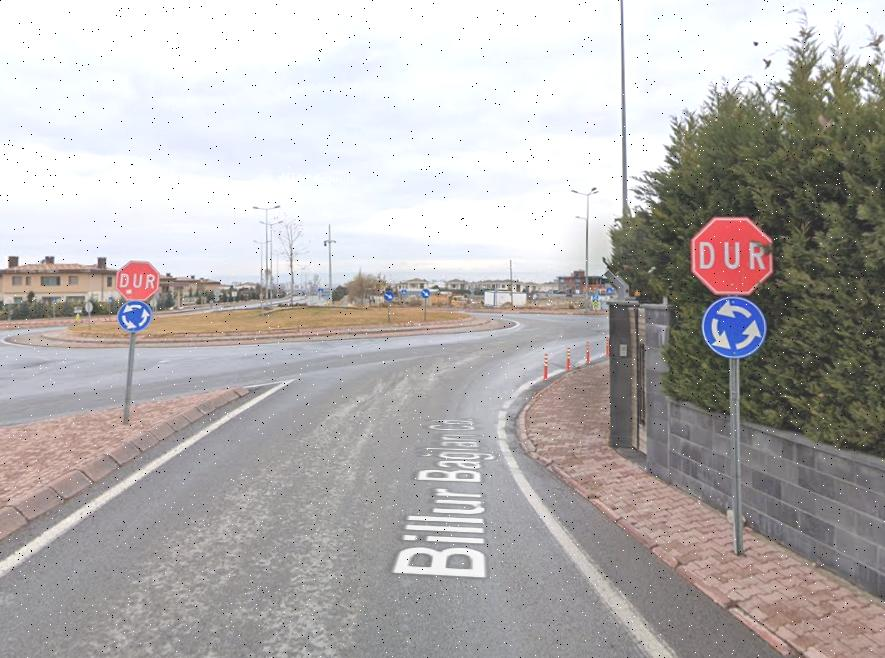crossroads: (707, 297, 766, 361), (116, 301, 152, 332)
stop: (690, 217, 774, 294), (117, 261, 161, 300)
